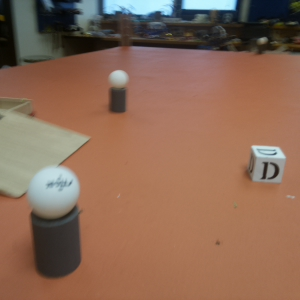blockD: (251, 146, 285, 183)
corner: (120, 16, 131, 46)
obstacle: (29, 166, 81, 278), (108, 71, 128, 113), (258, 37, 267, 56)
slope: (1, 111, 87, 197)
